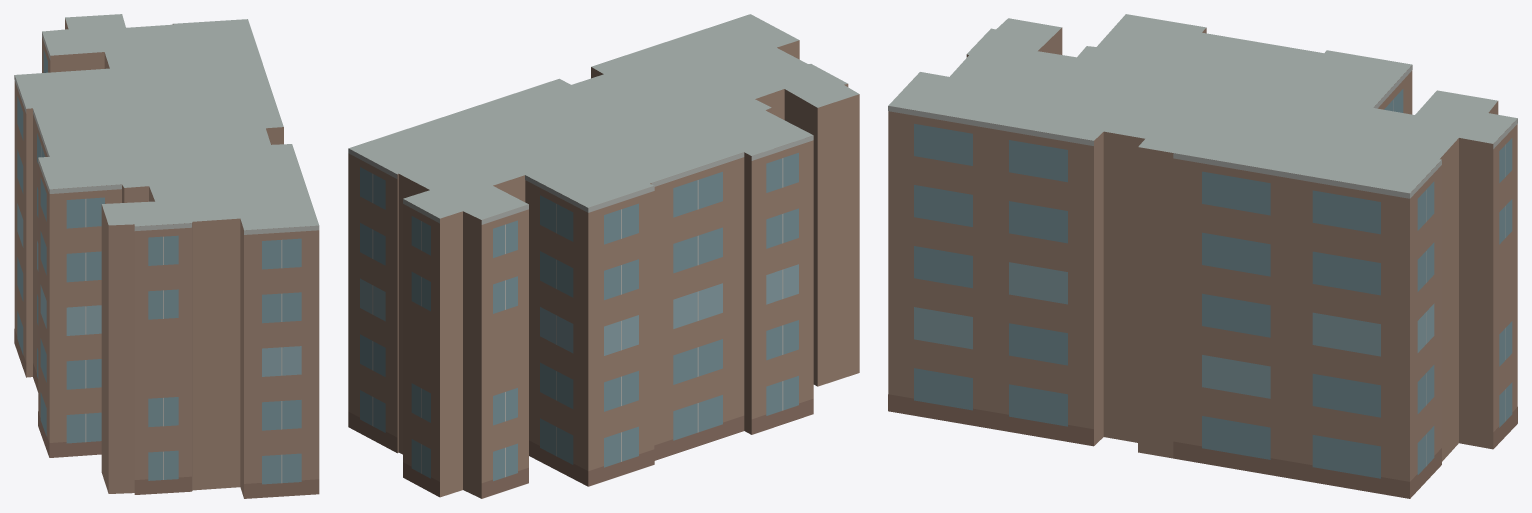
The model's file is survey-upis-32611630.glb.
The picture shows the model from 3 angles, left to right: view 1: azimuth 30°, elevation 25°; view 2: azimuth 150°, elevation 25°; view 3: azimuth 270°, elevation 25°; orthographic projection. The views are drawn at different scales.
Visible parts, largest first — view 1: survey-upis-32611630.tmp; view 2: survey-upis-32611630.tmp; view 3: survey-upis-32611630.tmp.
Boxes of the visible parts, x1,y1,x2,y2 form: survey-upis-32611630.tmp: (14, 14, 319, 498); survey-upis-32611630.tmp: (348, 14, 859, 498); survey-upis-32611630.tmp: (888, 14, 1517, 498).
Size of the model in its own units: 17.39 by 13.8 by 25.79.
